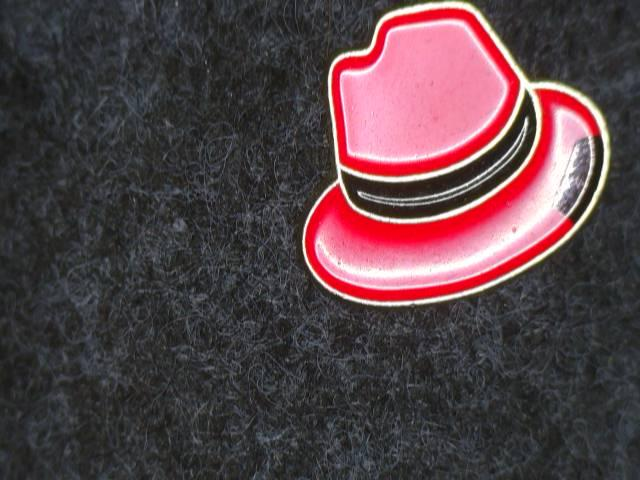Red-Hat: (283, 0, 633, 337)
Scratch: (543, 114, 621, 243)
